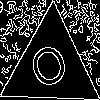O: (26, 40, 76, 100)
